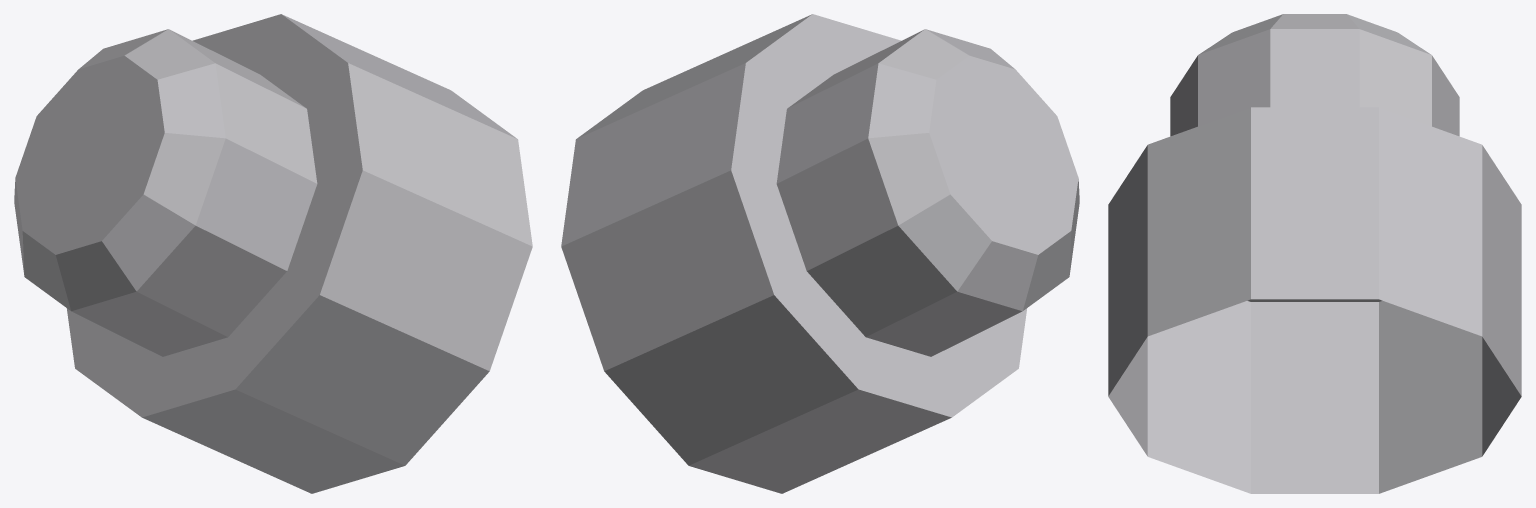
Rendered from Dropship_03_Detail_01.fbx.
3 views of the same model, side by side, from view 1: azimuth 30°, elevation 25°; view 2: azimuth 150°, elevation 25°; view 3: azimuth 270°, elevation 25° (orthographic). The views are drawn at different scales.
Visible parts, largest first — view 1: Dropship_03_Detail_01; view 2: Dropship_03_Detail_01; view 3: Dropship_03_Detail_01.
Boxes of the visible parts, box(x1,y1,x2,y2) form: Dropship_03_Detail_01: box(14, 14, 532, 493); Dropship_03_Detail_01: box(561, 14, 1079, 493); Dropship_03_Detail_01: box(1108, 14, 1521, 493).
Bounding box in the file's own units: 33.83 × 32.25 × 28.46.
Materials: 1 (1 with a texture image).
